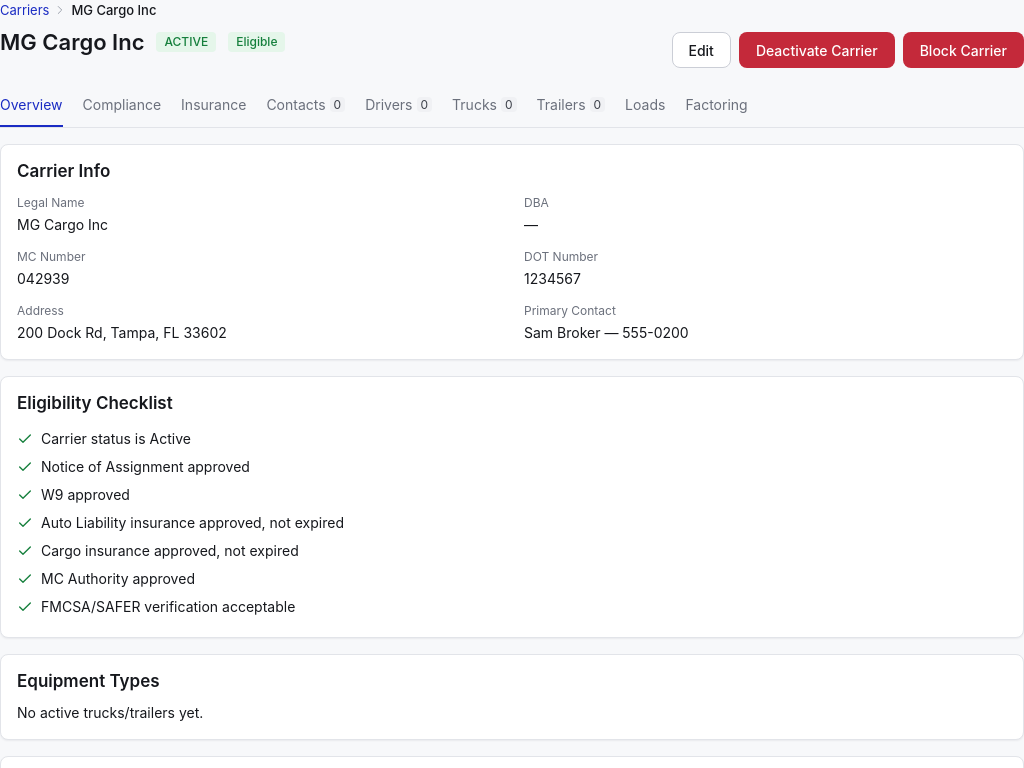
Test: CarrierDetailPage — Edit/Save › closes the modal and refreshes the carrier on a successful save
Expected: the heading "MG Cargo Inc" is shown, [0,32,144,52]
Click the button "Edit" at x=701, y=50, box [672,32,731,68]
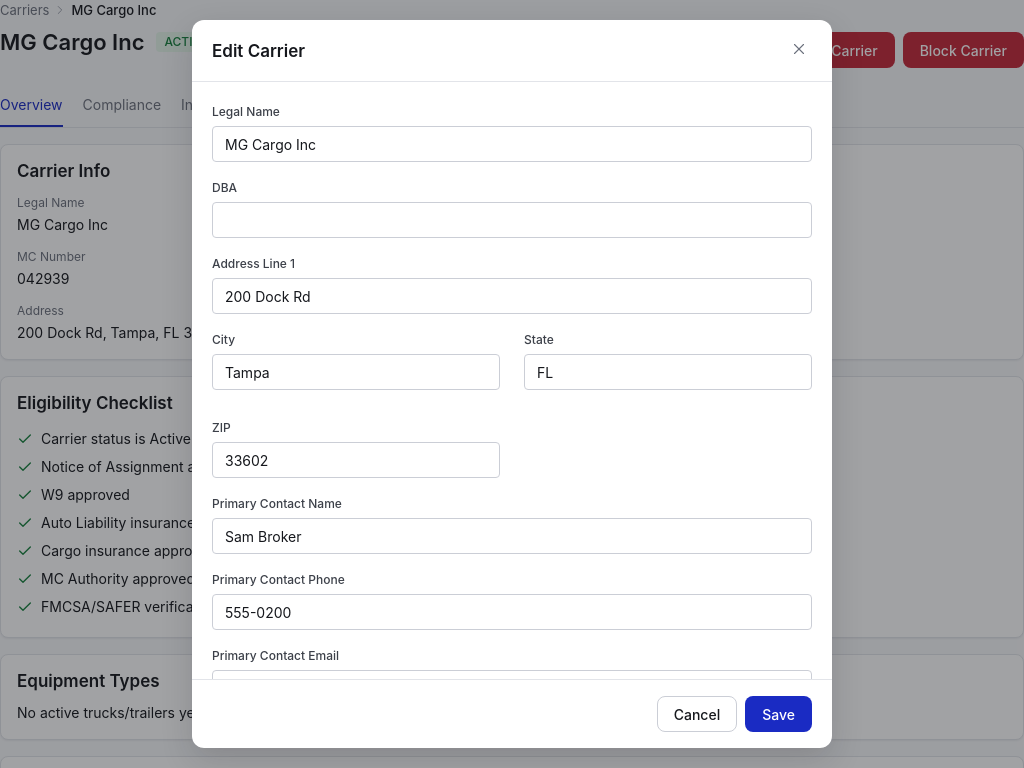
Click the button "Save" at x=779, y=714, box [745,696,812,732]
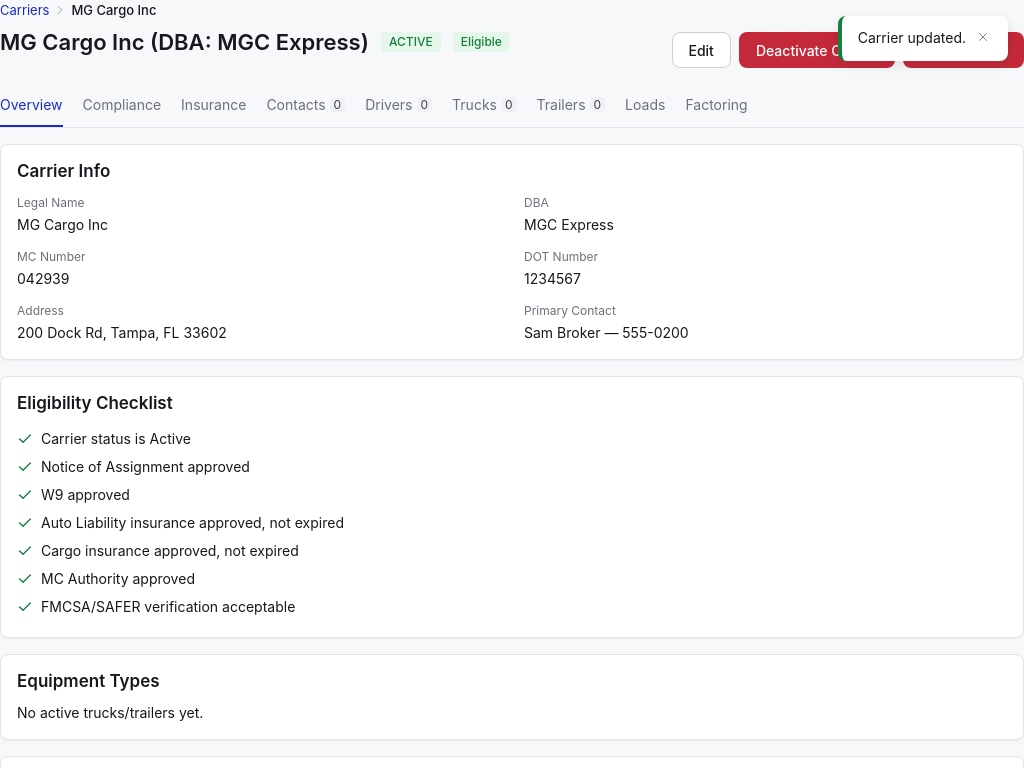
Expected: the field showing "sam@mgcargo.test" is not shown
Now the text "Carrier updated." is shown, box [858,28,966,48]
Now the heading "MG Cargo Inc (DBA: MGC Express)" is shown, box [0,32,369,52]
